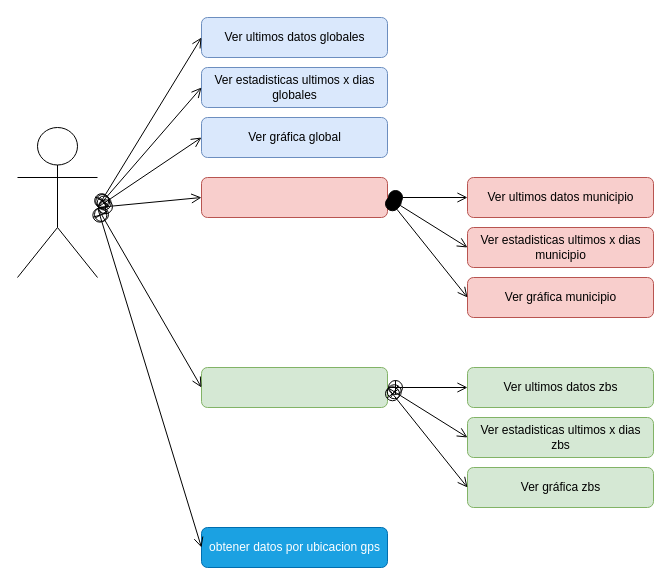
Image size: 671x585. Some labels were removed from this diagram. The box of each missing label's shape, as (x1, y1, x2, y2) in pixels:
Actor: (16, 126, 98, 278)
Seleccionar un municipio: (200, 176, 388, 218)
Seleccionar un zbs: (200, 366, 388, 408)
